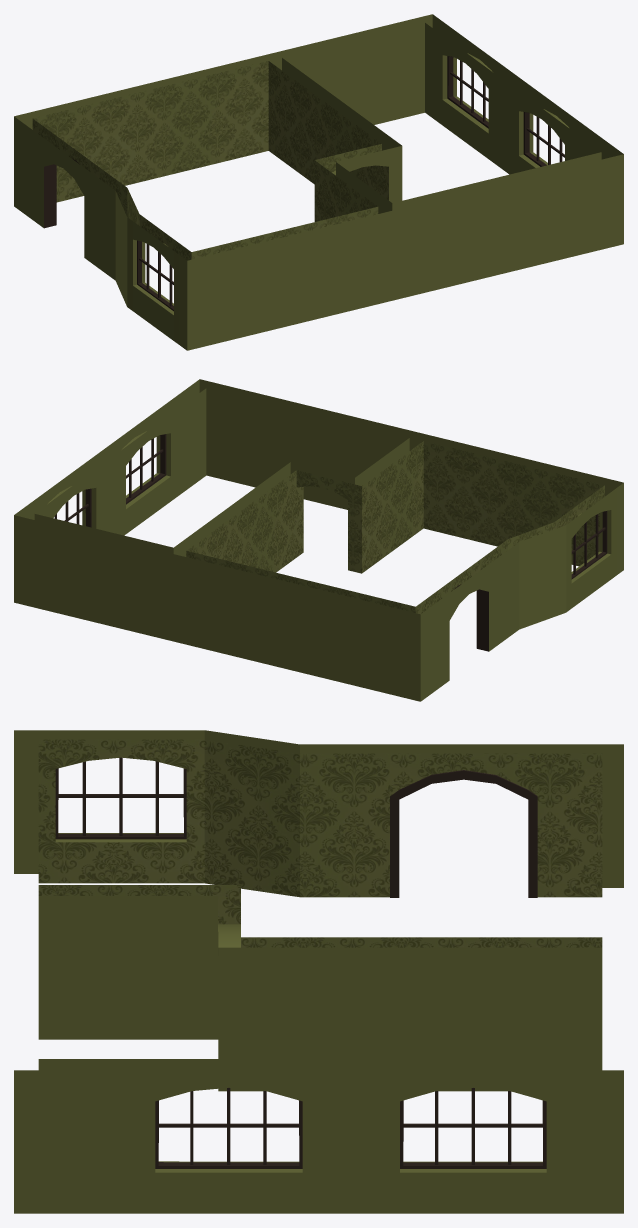
File: F_Wall.fbx
3 views of the same model, one above another, from view 1: azimuth 30°, elevation 25°; view 2: azimuth 150°, elevation 25°; view 3: azimuth 270°, elevation 25° (orthographic). The views are drawn at different scales.
Visible parts, largest first — view 1: F_Wall; view 2: F_Wall; view 3: F_Wall.
Boxes of the visible parts, <box> form: F_Wall: <box>14,14,623,350</box>; F_Wall: <box>14,379,623,701</box>; F_Wall: <box>14,730,623,1213</box>.
Bounding box in the file's own units: 1564 × 308 × 1185.
